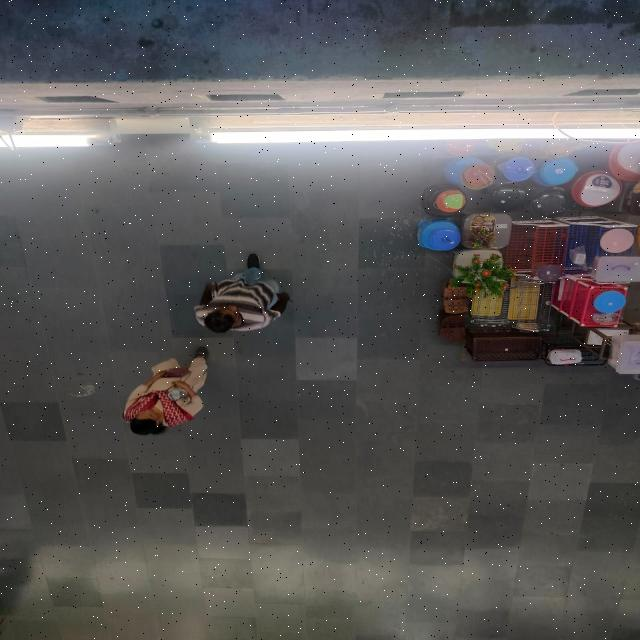humans: (111, 340, 215, 440), (191, 249, 295, 337)
